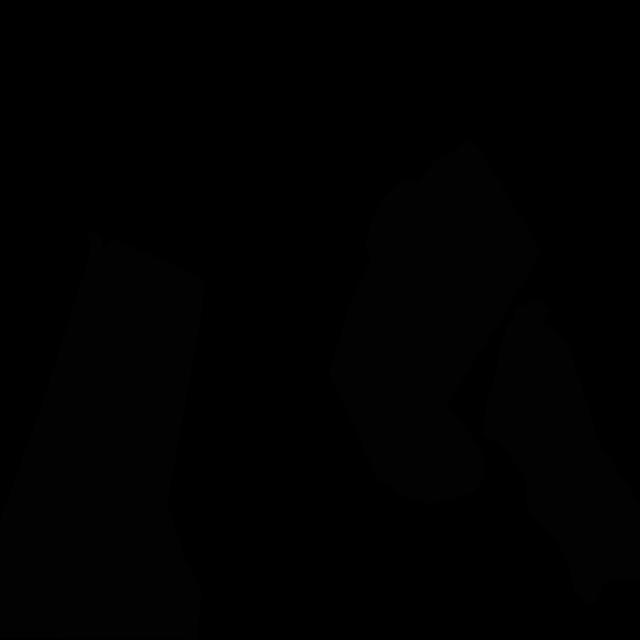cardboard: (0, 231, 204, 639), (329, 139, 541, 504), (483, 300, 640, 604)
